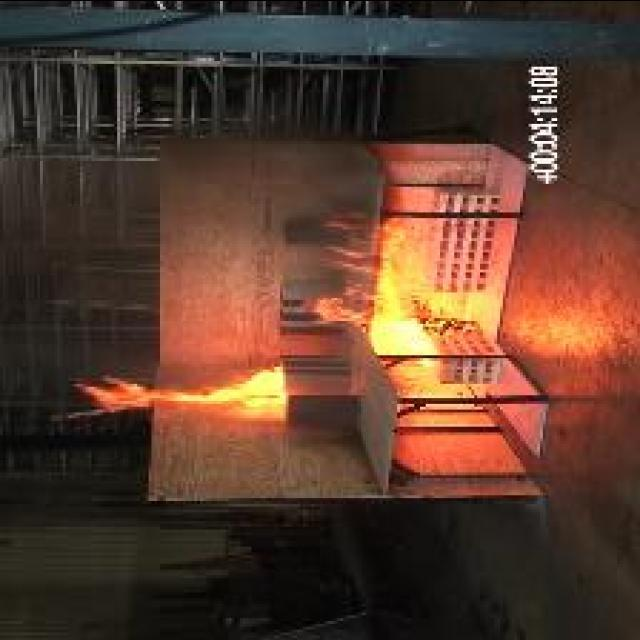Fire: (302, 216, 468, 350), (80, 364, 286, 413)
